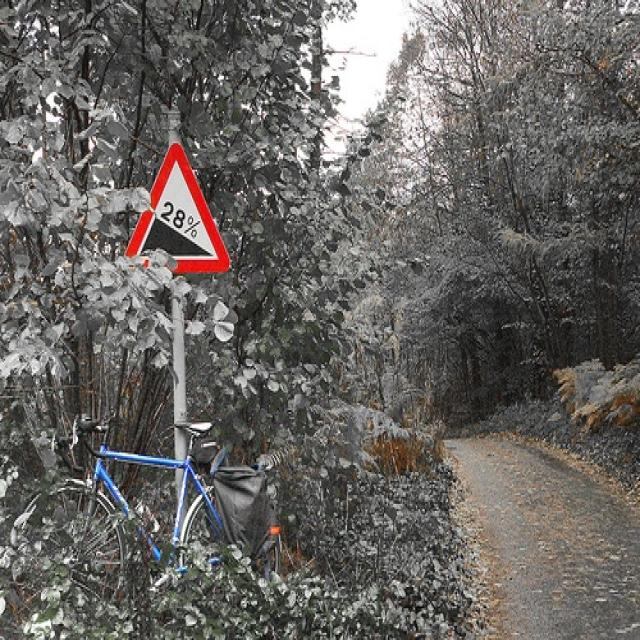bicycle: (32, 415, 296, 573)
